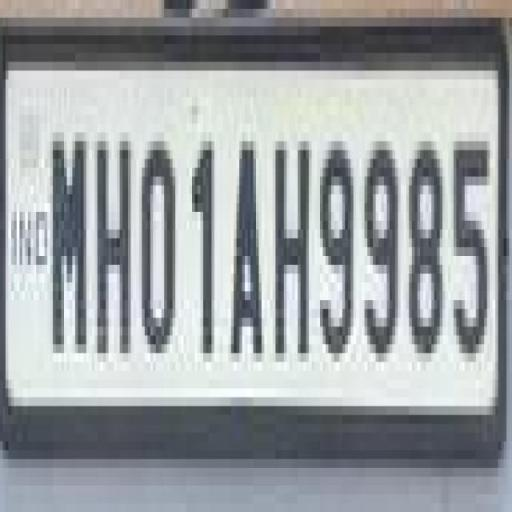number plate: (0, 44, 487, 450)
